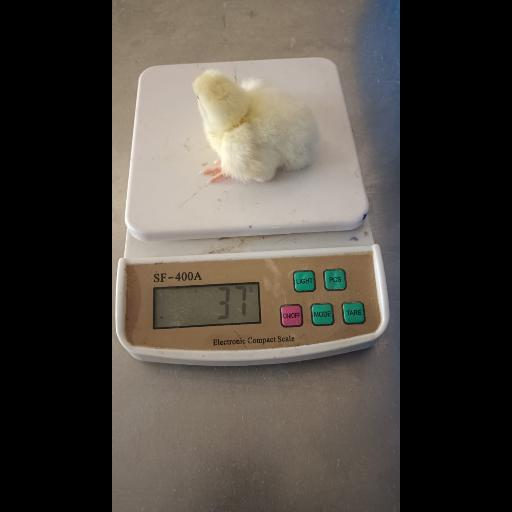chick: (192, 70, 319, 183)
